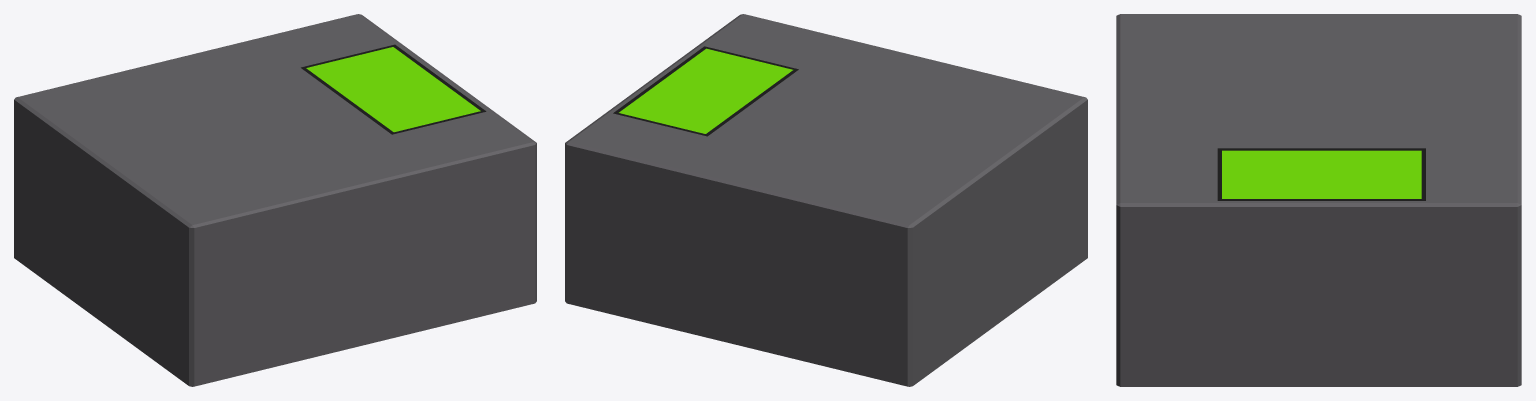
The model's file is psu.dae.
3 renders of one model, left to right at view 1: azimuth 30°, elevation 25°; view 2: azimuth 150°, elevation 25°; view 3: azimuth 270°, elevation 25°, orthographic. The views are drawn at different scales.
Visible parts, largest first — view 1: PowerBox; view 2: PowerBox; view 3: PowerBox.
Part boxes in pixels (left/top/right/bottom): PowerBox: left=14, top=14, right=536, bottom=386; PowerBox: left=565, top=14, right=1087, bottom=386; PowerBox: left=1116, top=14, right=1521, bottom=386.
Size of the model in its own units: 0.09 by 0.08 by 0.04.
